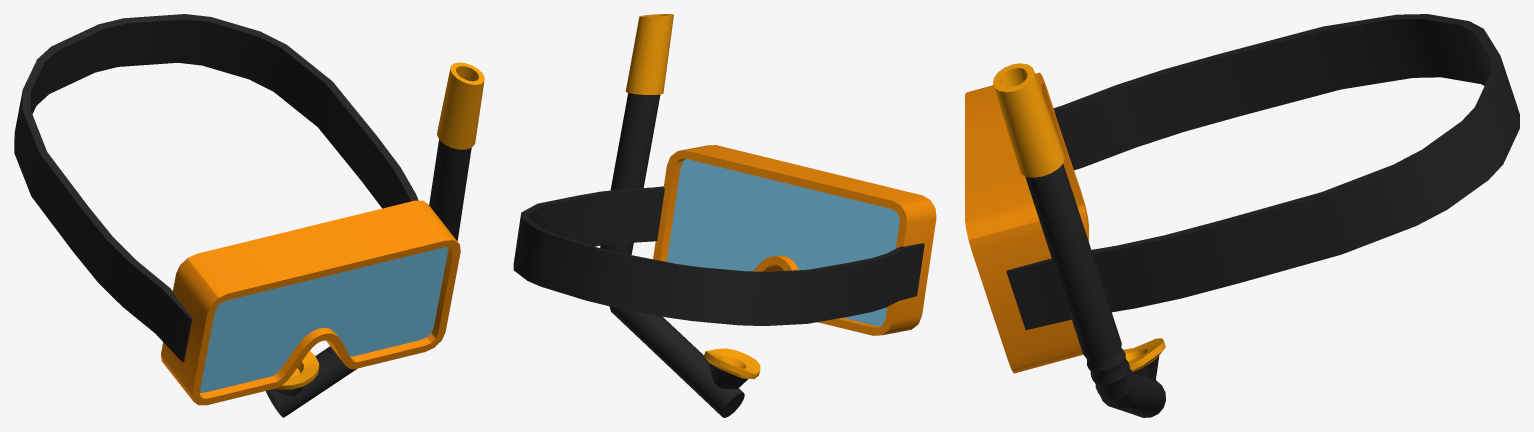
File: diving_mask.glb
3 views of the same model, side by side, from view 1: azimuth 30°, elevation 25°; view 2: azimuth 150°, elevation 25°; view 3: azimuth 270°, elevation 25° (orthographic). The views are drawn at different scales.
Visible parts, largest first — view 1: Plane.308; view 2: Plane.308; view 3: Plane.308.
Part boxes in pixels (x1=…): Plane.308: x1=14, y1=14, x2=484, y2=417; Plane.308: x1=513, y1=14, x2=936, y2=417; Plane.308: x1=965, y1=14, x2=1519, y2=417.
Size of the model in its own units: 2.02 by 2.15 by 2.56.
1 material, 1 textured.
